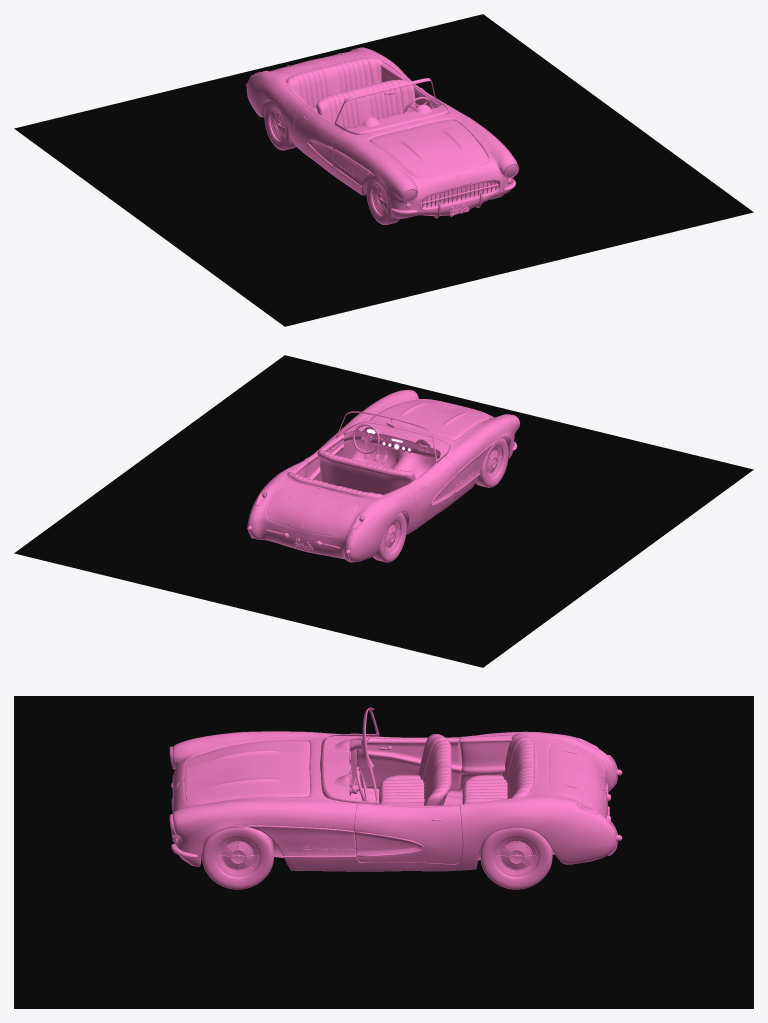
The model's file is barbie car.fbx.
3 views of the same model, one above another, from view 1: azimuth 30°, elevation 25°; view 2: azimuth 150°, elevation 25°; view 3: azimuth 270°, elevation 25° (orthographic). The views are drawn at different scales.
Visible parts, largest first — view 1: Plane, car, car.001, hood.011, hood.018; view 2: Plane, car, car.001, hood.018, hood.011, car.002; view 3: Plane, car, car.002, hood.023, hood.011, car.001.
Part boxes in pixels (x1,y1,x2,y2): Plane: [14, 14, 753, 326]; car: [246, 47, 519, 218]; car.001: [294, 103, 342, 169]; hood.011: [264, 100, 295, 150]; hood.018: [366, 175, 400, 225]; Plane: [14, 355, 753, 667]; car: [247, 390, 520, 562]; car.001: [407, 456, 457, 525]; hood.018: [475, 438, 508, 487]; hood.011: [373, 512, 406, 562]; car.002: [303, 432, 344, 481]; Plane: [14, 696, 753, 1008]; car: [169, 707, 622, 871]; car.002: [354, 803, 462, 864]; hood.023: [202, 827, 273, 889]; hood.011: [480, 827, 552, 889]; car.001: [357, 736, 462, 790].
Bounding box in the file's own units: 1020 × 184 × 1020.
